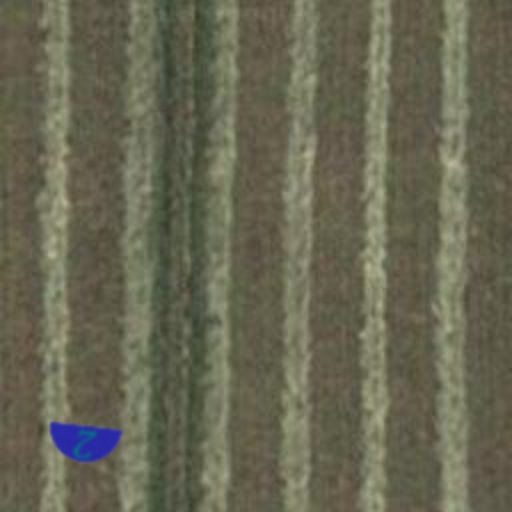semicircle: (42, 402, 126, 486)
